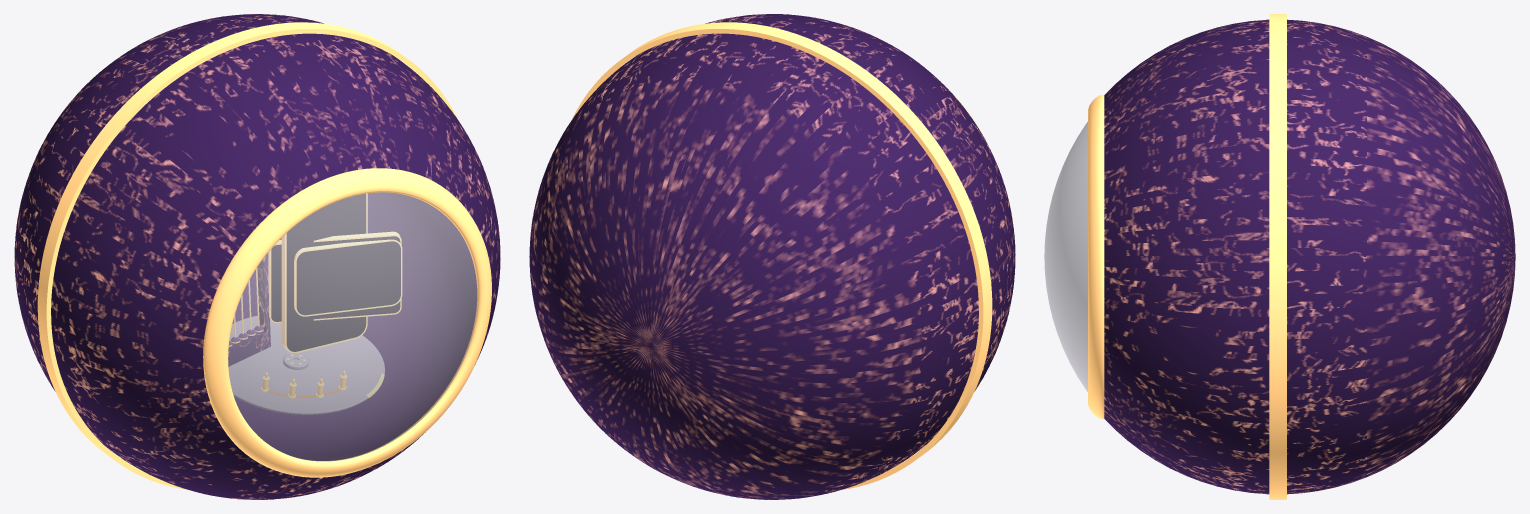
File: bob-beads.glb
3 views of the same model, side by side, from view 1: azimuth 30°, elevation 25°; view 2: azimuth 150°, elevation 25°; view 3: azimuth 270°, elevation 25° (orthographic). The views are drawn at different scales.
Visible parts, largest first — view 1: bead_cookies-clicker_glass, bead_funcial_glass, bead_cookies-clicker_body, bead_funcial_body, bead_jontai-energy_body, bead_cookies-clicker_rim, bead_cookies-clicker_halo, funcial_platter, bead_cookies-clicker_display, bead_funcial_display, bead_jontai-energy_display, funcial_abacus; view 2: bead_cookies-clicker_body, bead_funcial_body, bead_jontai-energy_body, bead_cookies-clicker_halo; view 3: bead_cookies-clicker_body, bead_funcial_body, bead_jontai-energy_body, bead_cookies-clicker_halo, bead_cookies-clicker_glass, bead_funcial_glass, bead_cookies-clicker_rim.
Part boxes in pixels (x1,y1,x2,y2): bead_cookies-clicker_glass: (228, 192, 477, 460); bead_funcial_glass: (228, 193, 477, 460); bead_cookies-clicker_body: (14, 14, 500, 499); bead_funcial_body: (14, 14, 500, 499); bead_jontai-energy_body: (14, 14, 500, 499); bead_cookies-clicker_rim: (203, 168, 491, 477); bead_cookies-clicker_halo: (37, 22, 457, 489); funcial_platter: (228, 316, 384, 414); bead_cookies-clicker_display: (294, 240, 401, 316); bead_funcial_display: (282, 193, 367, 352); bead_jontai-energy_display: (268, 232, 401, 322); funcial_abacus: (228, 254, 270, 366); bead_cookies-clicker_body: (529, 14, 1015, 499); bead_funcial_body: (529, 14, 1015, 499); bead_jontai-energy_body: (529, 14, 1015, 499); bead_cookies-clicker_halo: (572, 22, 992, 489); bead_cookies-clicker_body: (1104, 19, 1515, 494); bead_funcial_body: (1104, 20, 1515, 493); bead_jontai-energy_body: (1104, 20, 1515, 494); bead_cookies-clicker_halo: (1269, 14, 1286, 499); bead_cookies-clicker_glass: (1044, 122, 1087, 391); bead_funcial_glass: (1045, 122, 1087, 391); bead_cookies-clicker_rim: (1088, 95, 1104, 418).
Bounding box in the file's own units: 1.94 × 1.94 × 1.88.
